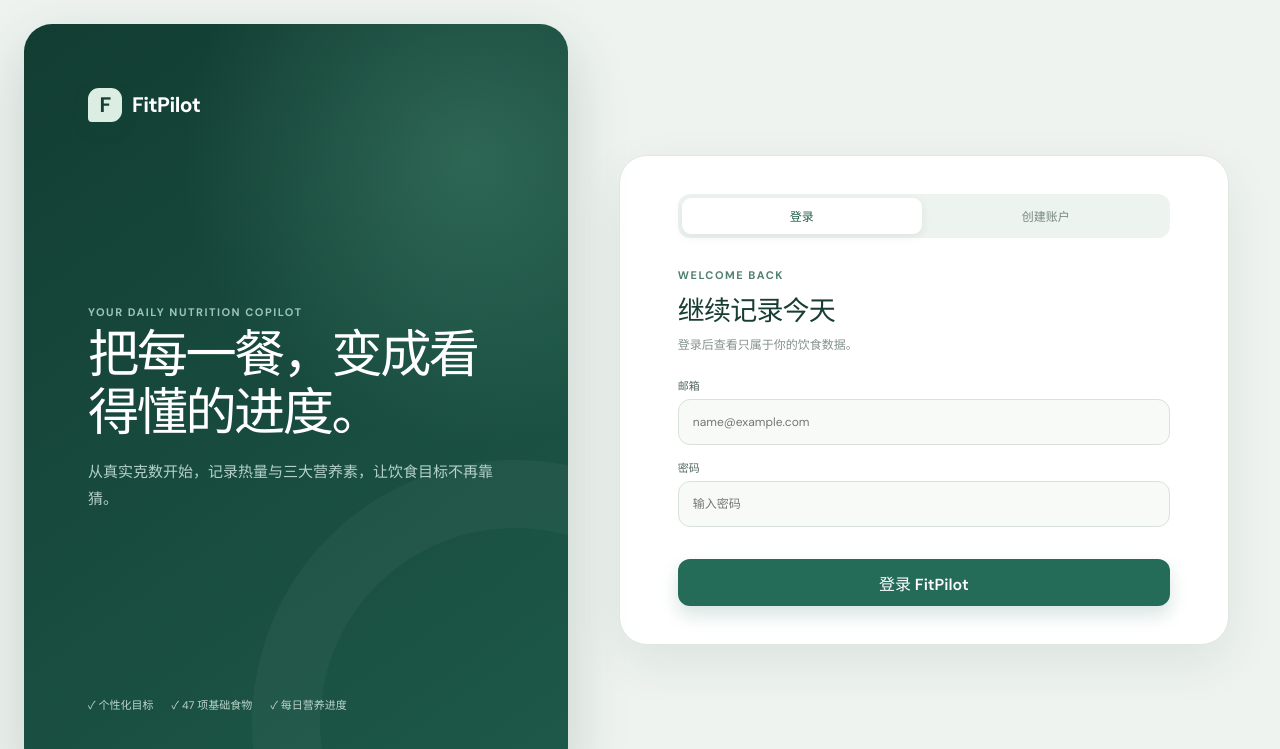
Scenario: FitPilot 核心饮食流程 › 按日期查看体重明细并编辑旧记录，不改变饮食日期
In the field labelled "邮箱": (924, 422) [678, 399, 1170, 445], type "zhengyi@example.com"
In the password field labelled "密码": (924, 504) [678, 481, 1170, 527], type "FitPilot123"
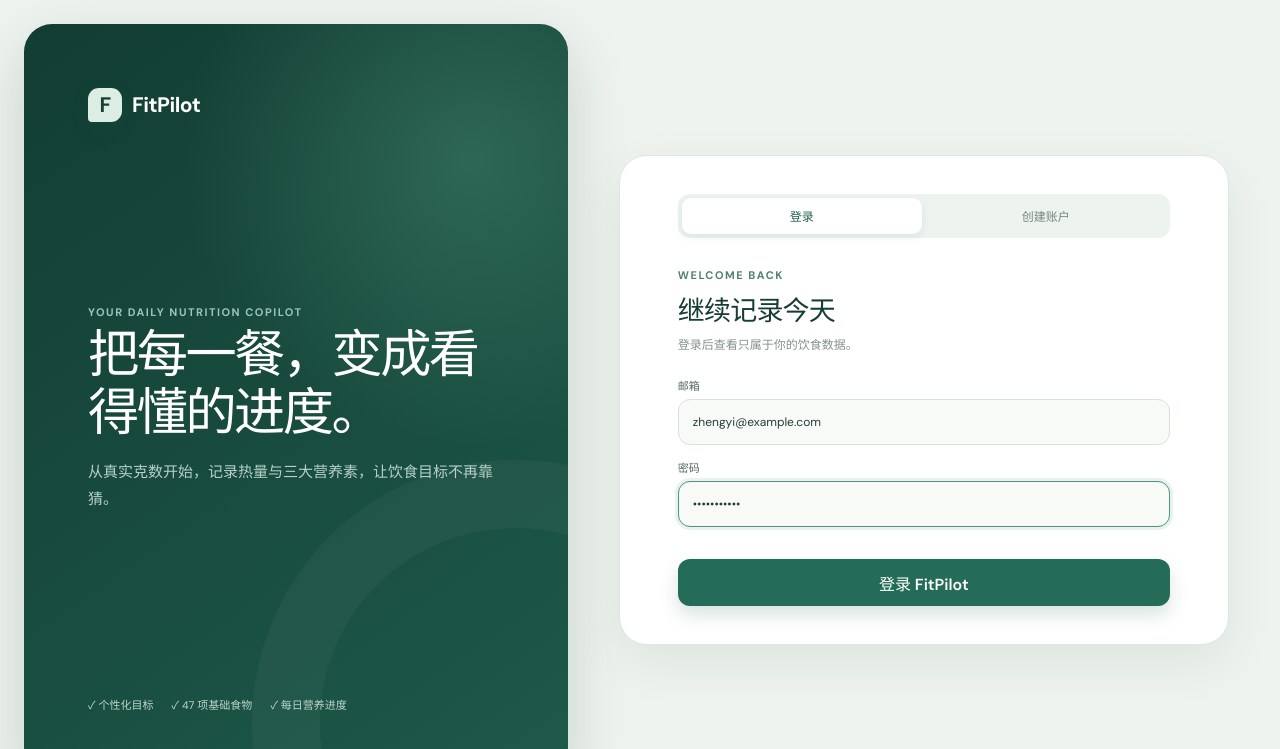
Click the button "登录 FitPilot": (924, 582) [678, 559, 1170, 606]
(page scrolled)
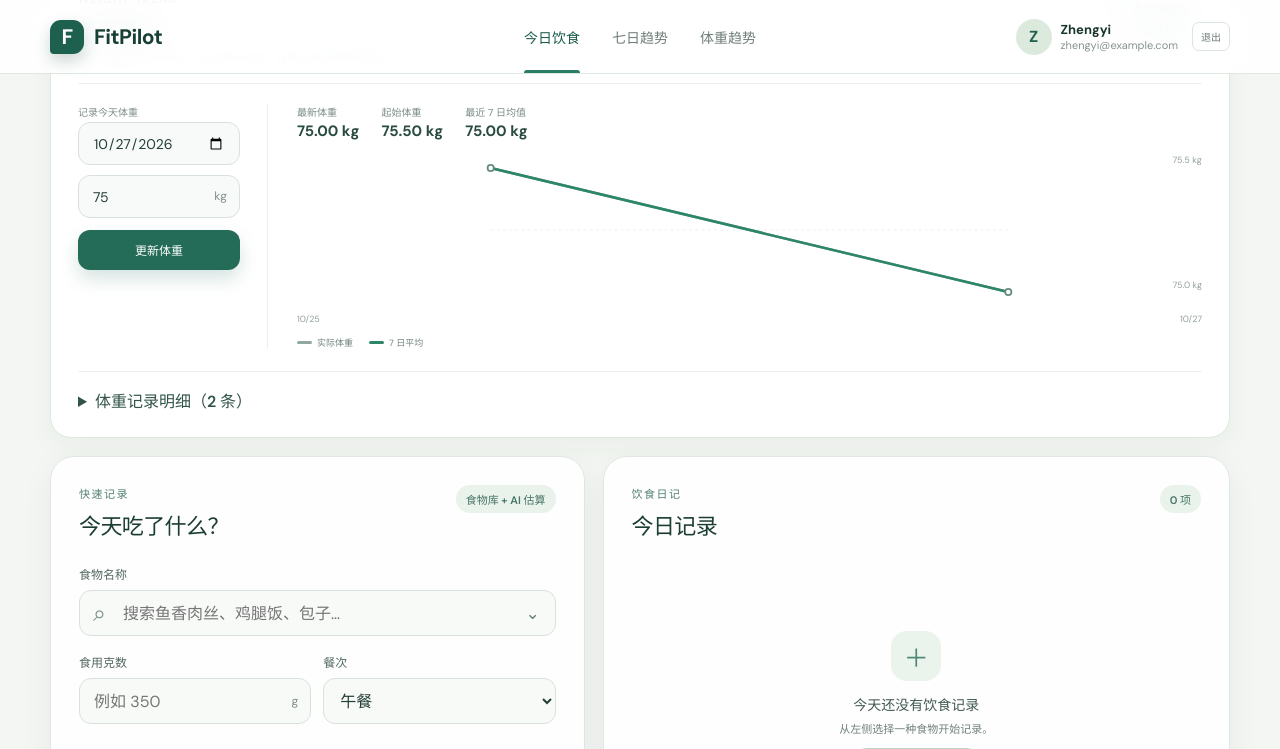
Click the heading "体重记录明细（2 条）": (174, 402) [95, 391, 252, 412]
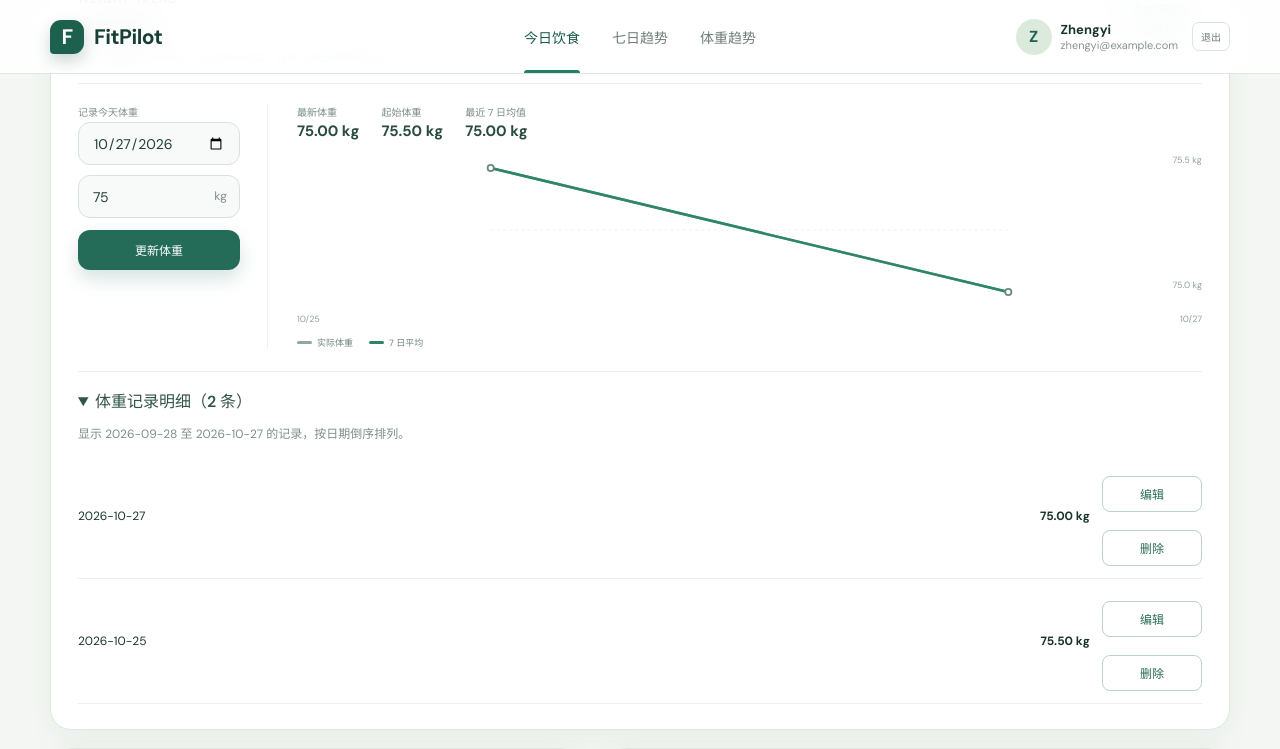
Click the button "编辑" in the row of "2026-10-25": (1152, 619) [1102, 601, 1202, 637]
(page scrolled)
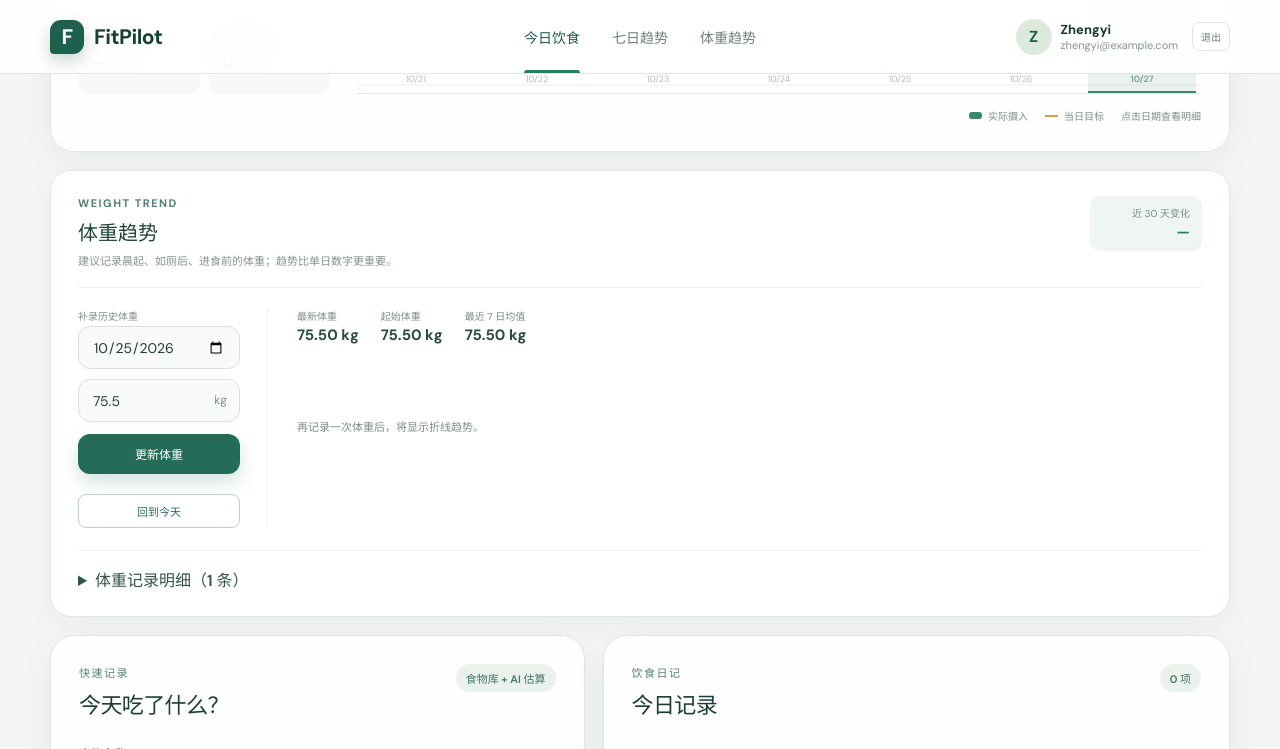
Expected: the number field named "体重，单位 kg" holds "75.5"
Replace the text in the number field named "体重，单位 kg" with "75.3": (159, 401) [78, 379, 240, 422]
Click the button "更新体重": (159, 454) [78, 434, 240, 474]
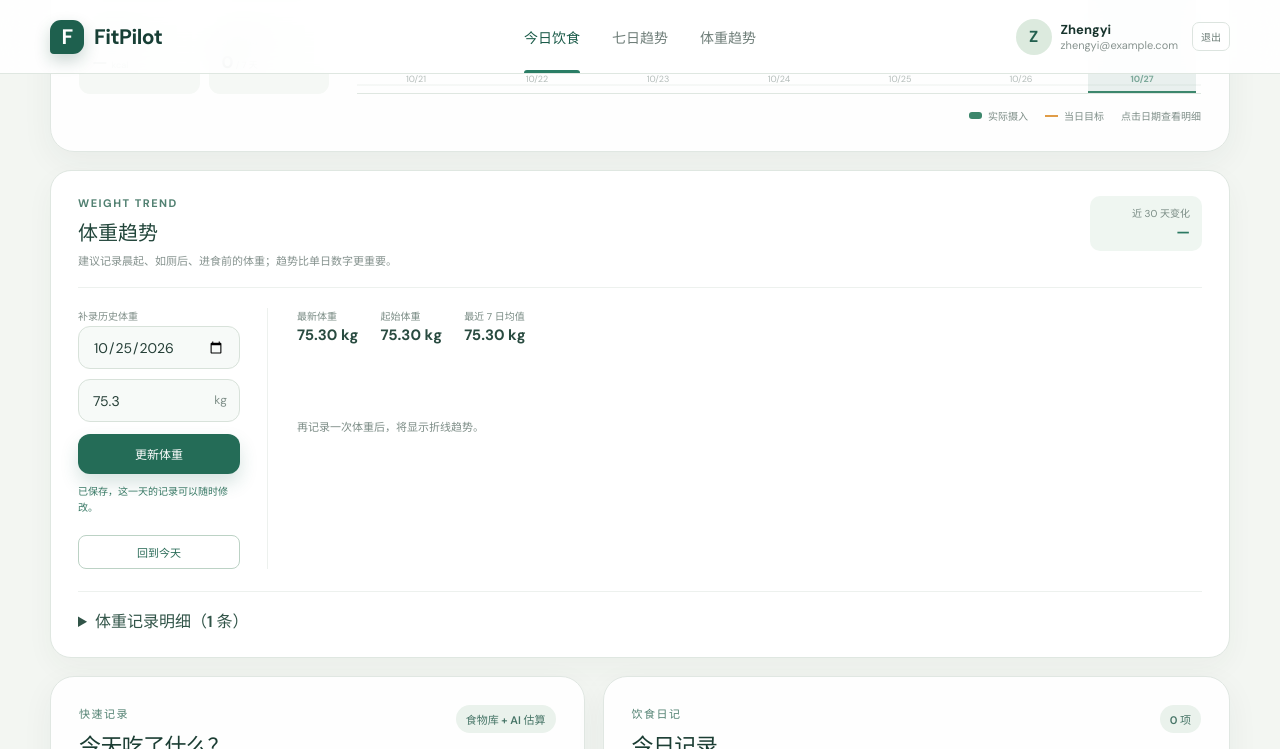
Expected: the text "已保存，这一天的记录可以随时修改。" is shown, [78, 484, 240, 515]
Click the button "回到今天": (159, 552) [78, 535, 240, 569]
(page scrolled)
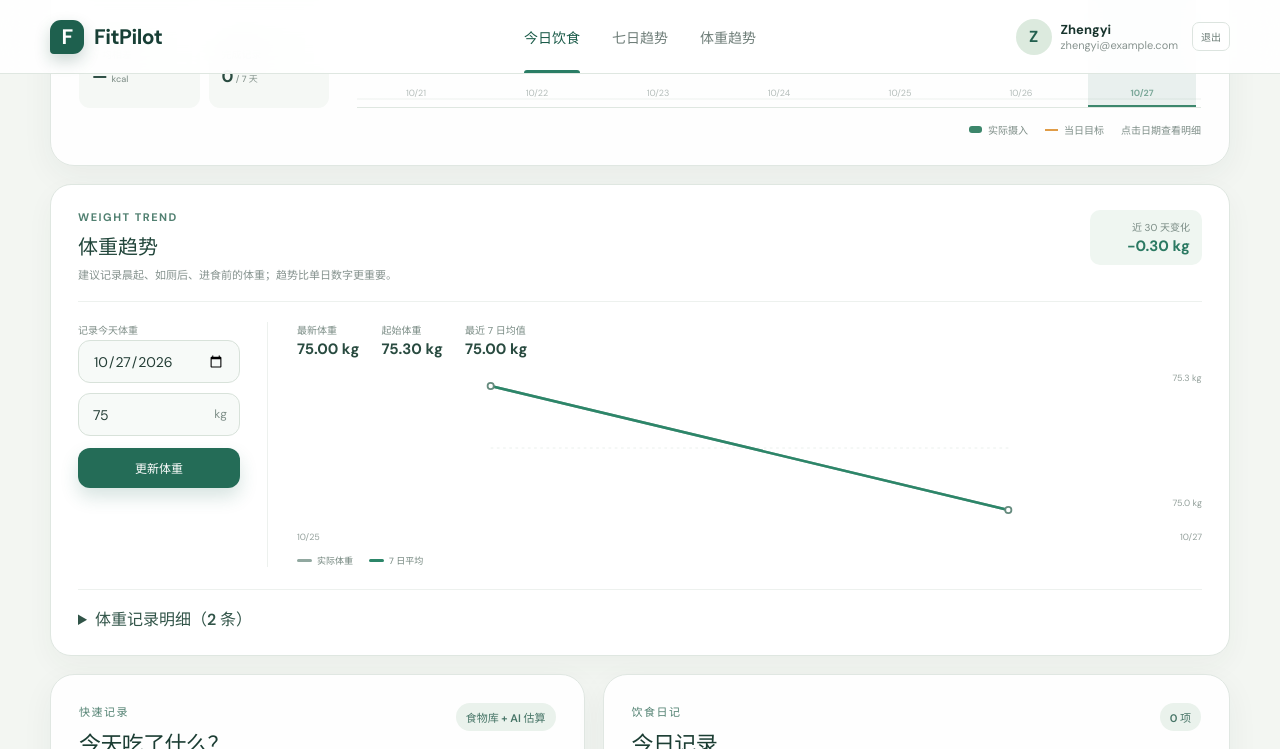
Expected: the text "记录今天体重" is shown, [78, 324, 138, 337]
